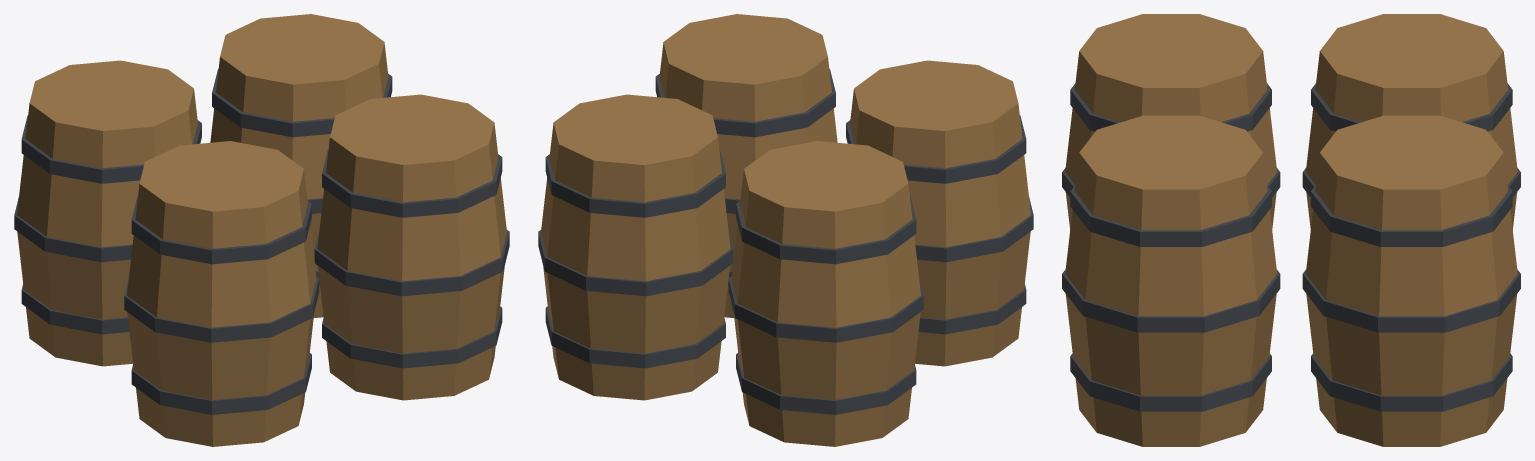
Rendered from pile_beer_2.glb.
3 renders of one model, left to right at view 1: azimuth 30°, elevation 25°; view 2: azimuth 150°, elevation 25°; view 3: azimuth 270°, elevation 25°, orthographic. The views are drawn at different scales.
Visible parts, largest first — view 1: pile_beer_2; view 2: pile_beer_2; view 3: pile_beer_2.
Boxes of the visible parts, bbox=[...] form: pile_beer_2: bbox=[14, 14, 509, 446]; pile_beer_2: bbox=[538, 14, 1033, 446]; pile_beer_2: bbox=[1062, 14, 1520, 446].
Size of the model in its own units: 1.34 by 0.85 by 1.37.
